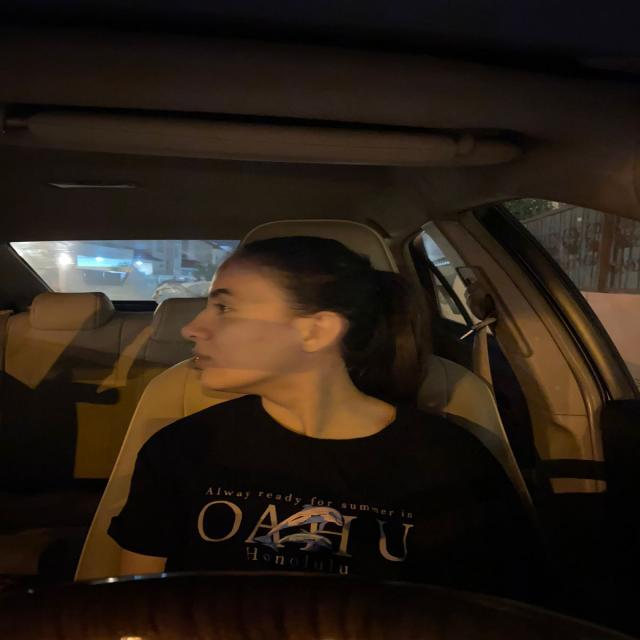LeftRight: (164, 248, 383, 395)
